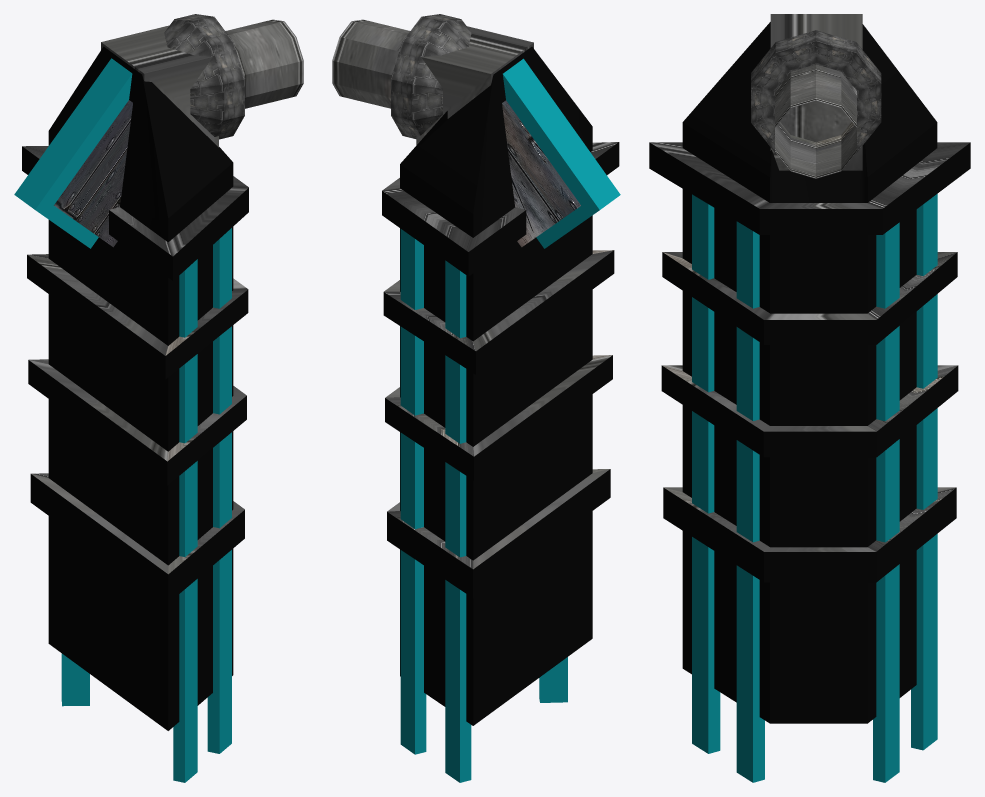
The model's file is Wall Connections.fbx.
3 views of the same model, side by side, from view 1: azimuth 30°, elevation 25°; view 2: azimuth 150°, elevation 25°; view 3: azimuth 270°, elevation 25° (orthographic). The views are drawn at different scales.
Visible parts, largest first — view 1: polySurface27, polySurface23, polySurface26, polySurface28, polySurface25, polySurface31, polySurface24, polySurface30; view 2: polySurface27, polySurface23, polySurface29, polySurface30, polySurface25, polySurface31, polySurface24, polySurface28; view 3: polySurface27, polySurface23, polySurface26, polySurface29, polySurface28, polySurface30, polySurface24.
Part boxes in pixels (x1,y1,x2,y2): polySurface27: (22,46,248,730); polySurface23: (164,14,303,139); polySurface26: (207,228,231,753); polySurface28: (173,259,197,782); polySurface25: (14,58,132,248); polySurface31: (54,100,132,247); polySurface24: (101,25,218,147); polySurface30: (61,653,89,706); polySurface27: (382,46,619,725); polySurface23: (332,14,471,138); polySurface29: (400,229,426,754); polySurface30: (445,260,471,782); polySurface25: (502,58,620,248); polySurface31: (502,100,580,247); polySurface24: (416,26,533,145); polySurface28: (539,657,567,702); polySurface27: (649,22,970,723); polySurface23: (751,30,881,178); polySurface26: (736,221,764,782); polySurface29: (873,222,899,782); polySurface28: (692,194,720,753); polySurface30: (911,194,937,750); polySurface24: (770,14,862,170).
Size of the model in its own units: 1.19 by 3.07 by 1.2.
